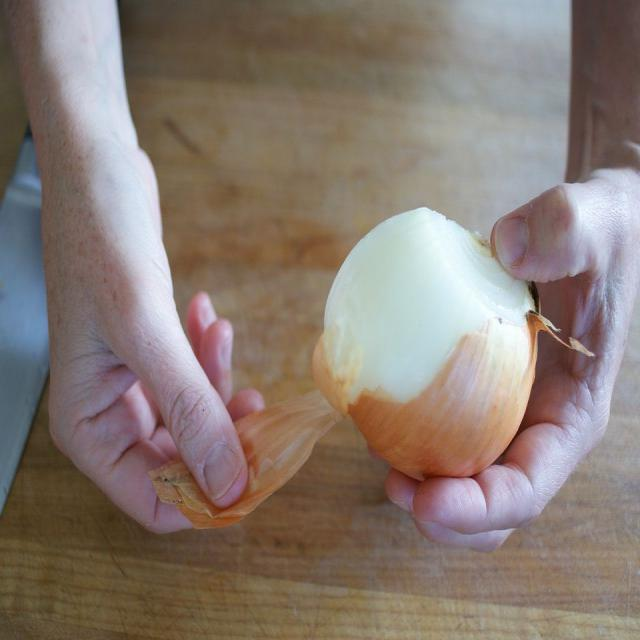onion: (310, 205, 545, 485)
